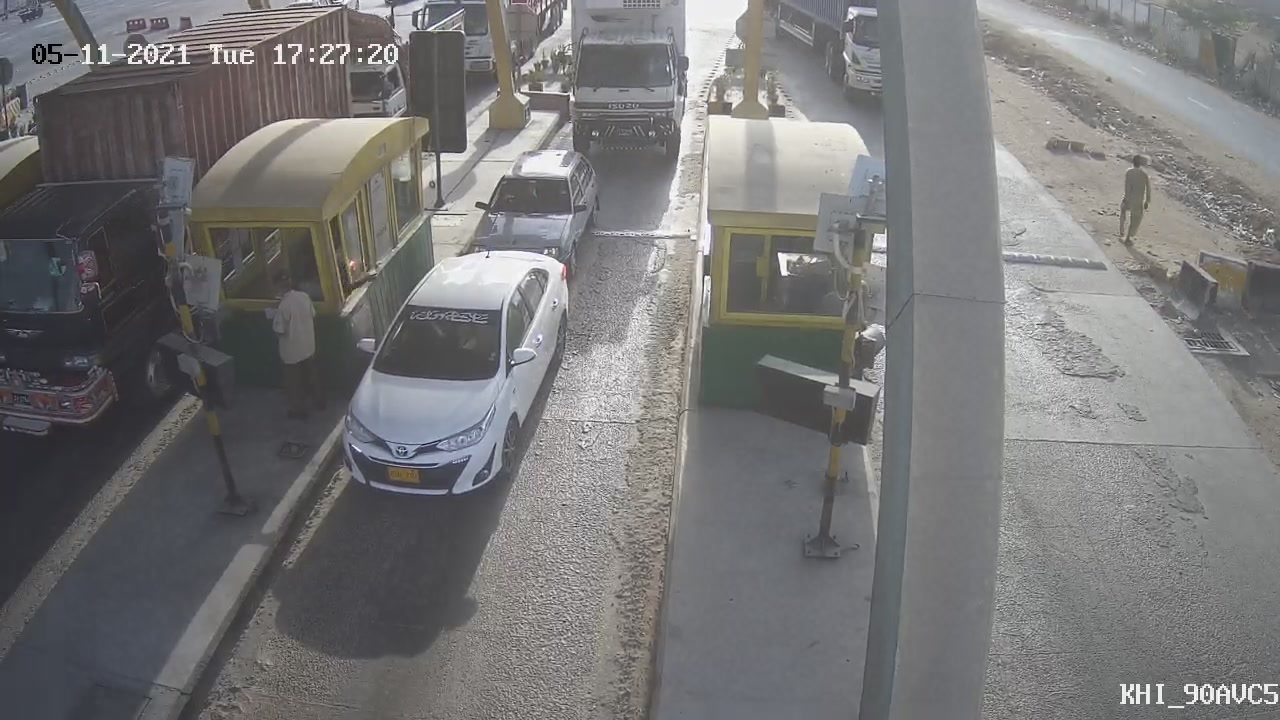F1: (312, 231, 592, 521), (452, 131, 617, 309)
